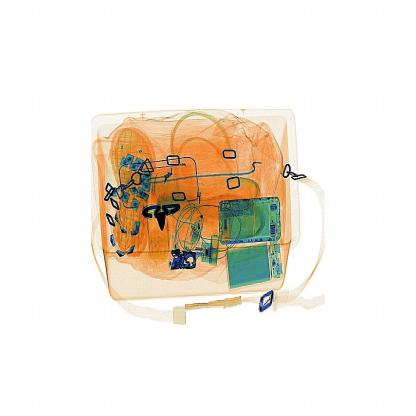gun: (139, 191, 188, 232)
